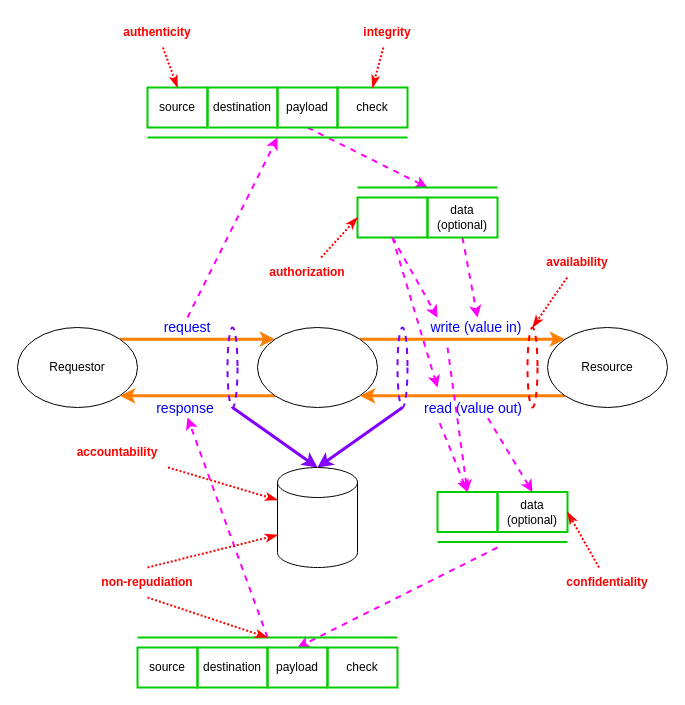
Image size: 685x705. Some labels were removed from this diagram. The shapes that lost their labels are listed below. From the top down, each one's box as (x1, y1, x2, y2) in pixels, then its label:
(356, 196, 428, 238): command
(256, 326, 378, 408): Resource Owner
(276, 466, 358, 568): Log
(436, 490, 498, 532): status
